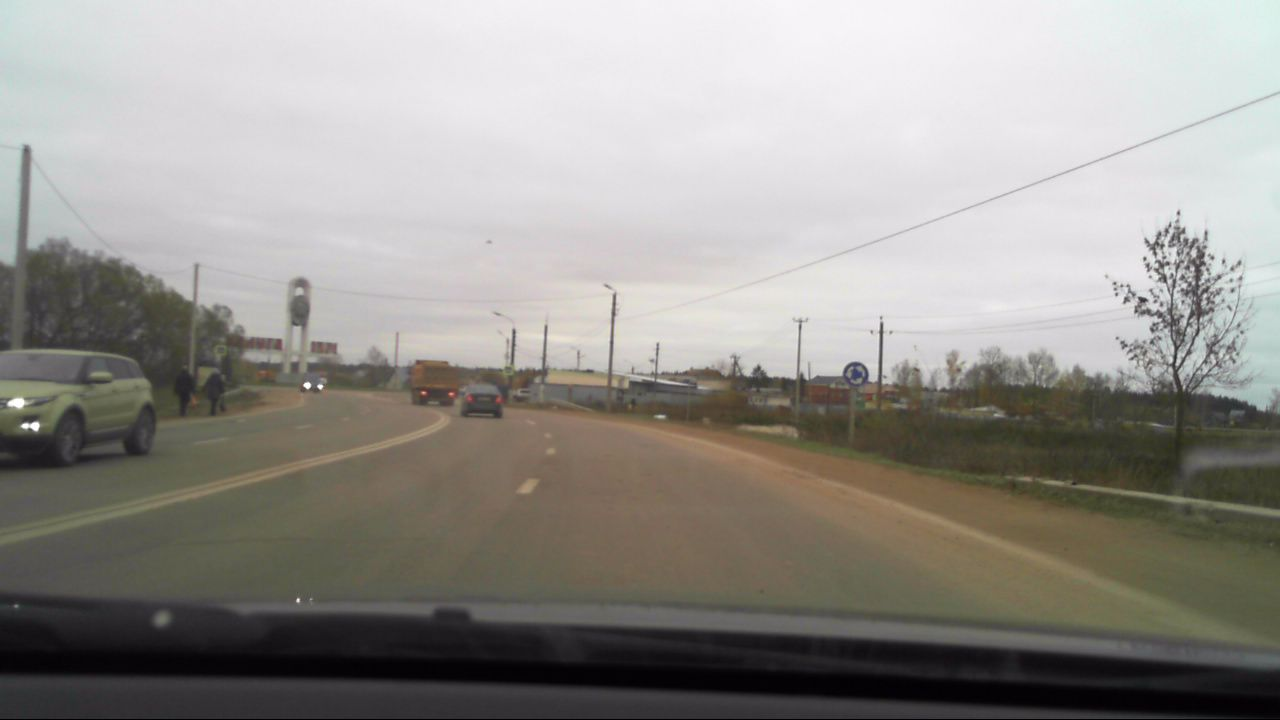Round-About: (842, 360, 869, 388)
